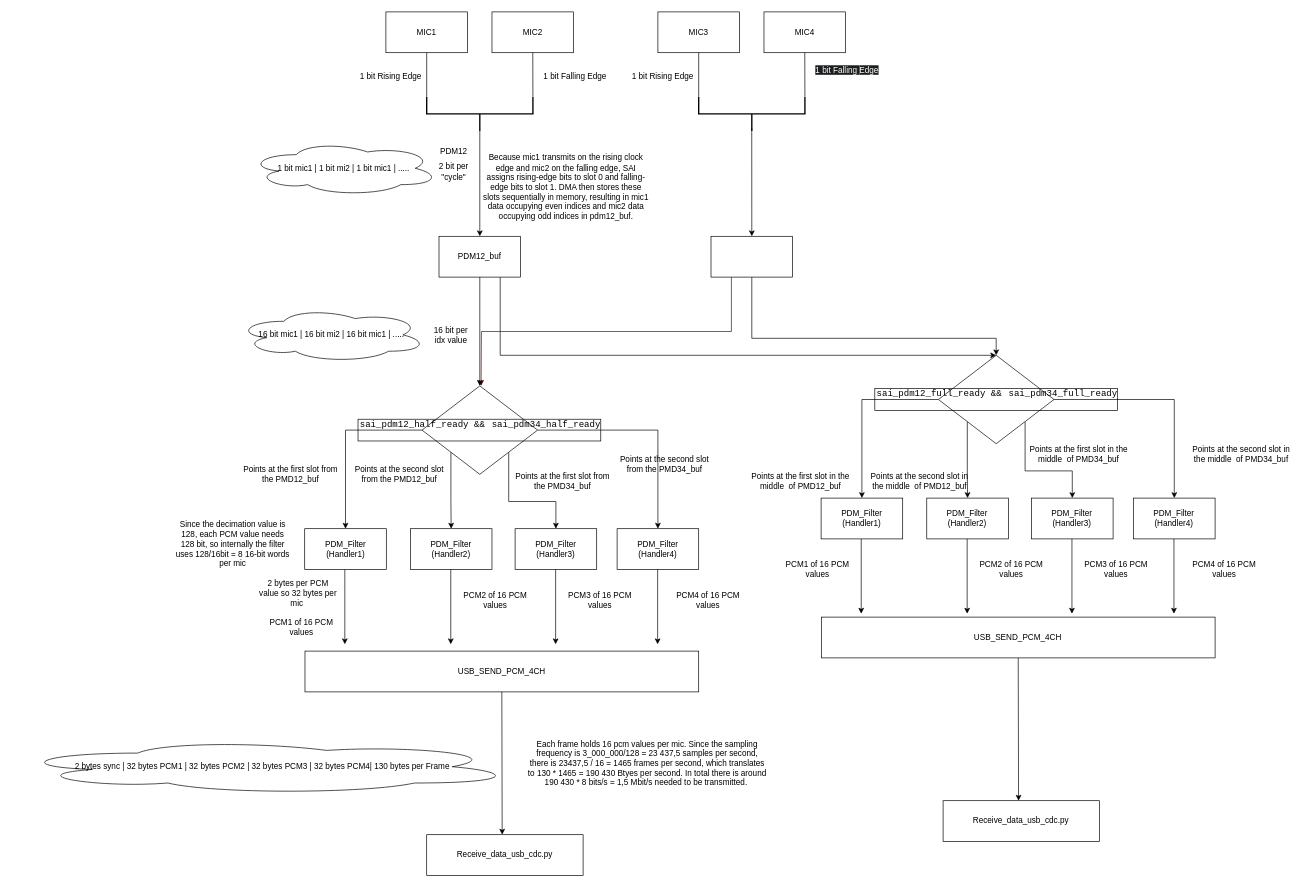
The diagram is 1308 pixels wide and 887 high, and some of its shapes have lost their labels. The shapes that lost their labels are listed below. From the top down, each one's box as (x1, y1, x2, y2) in pixels, then its label:
(698, 96, 805, 131): PDM34
(710, 236, 793, 277): PDM34_buf
